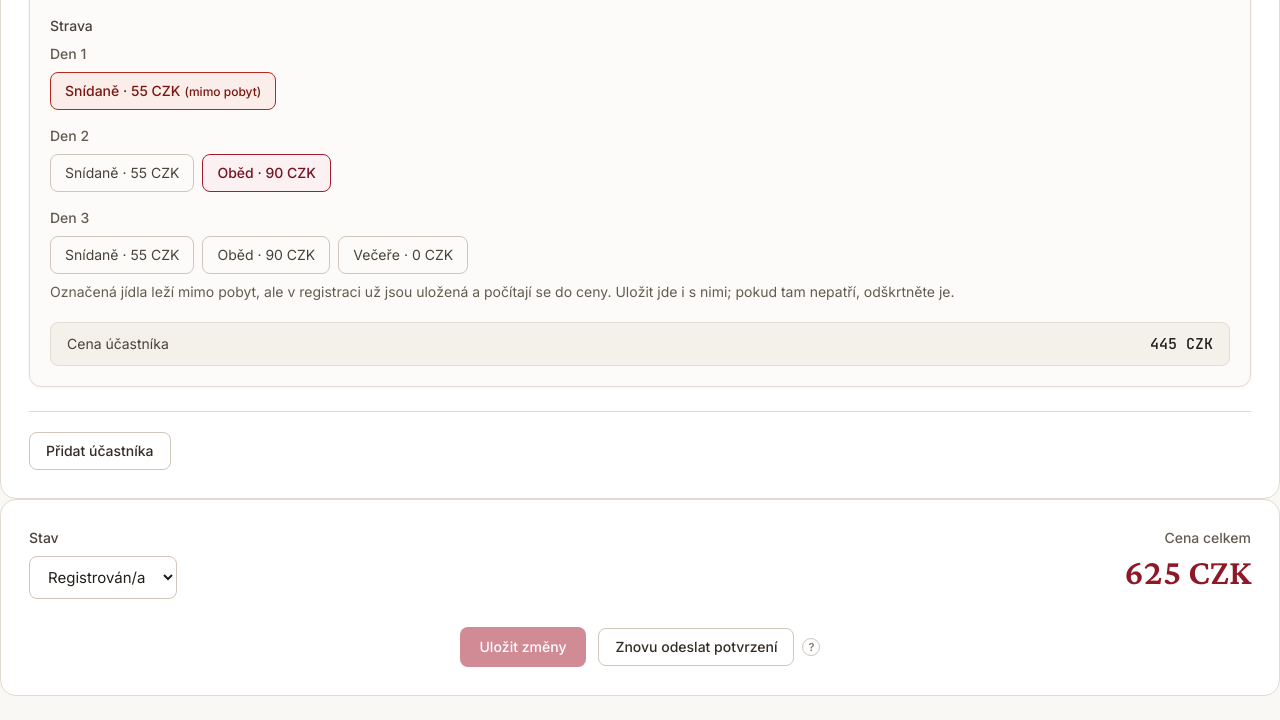
Test case: the stored registration, shown as it is › a meal already stored outside the stay is flagged and explained — but priced, and no obstacle to a save
This screenshot has width=1280, height=720.
(page scrolled)
Expected: the text "Označená jídla leží mimo pobyt, ale v registraci už jsou uložená a počítají se do ceny. Uložit jde i s nimi; pokud tam n" is shown, [50, 282, 954, 300]
Select "Zrušeno" in the dropdown labelled "Stav" at (103, 578), box [29, 556, 177, 599]
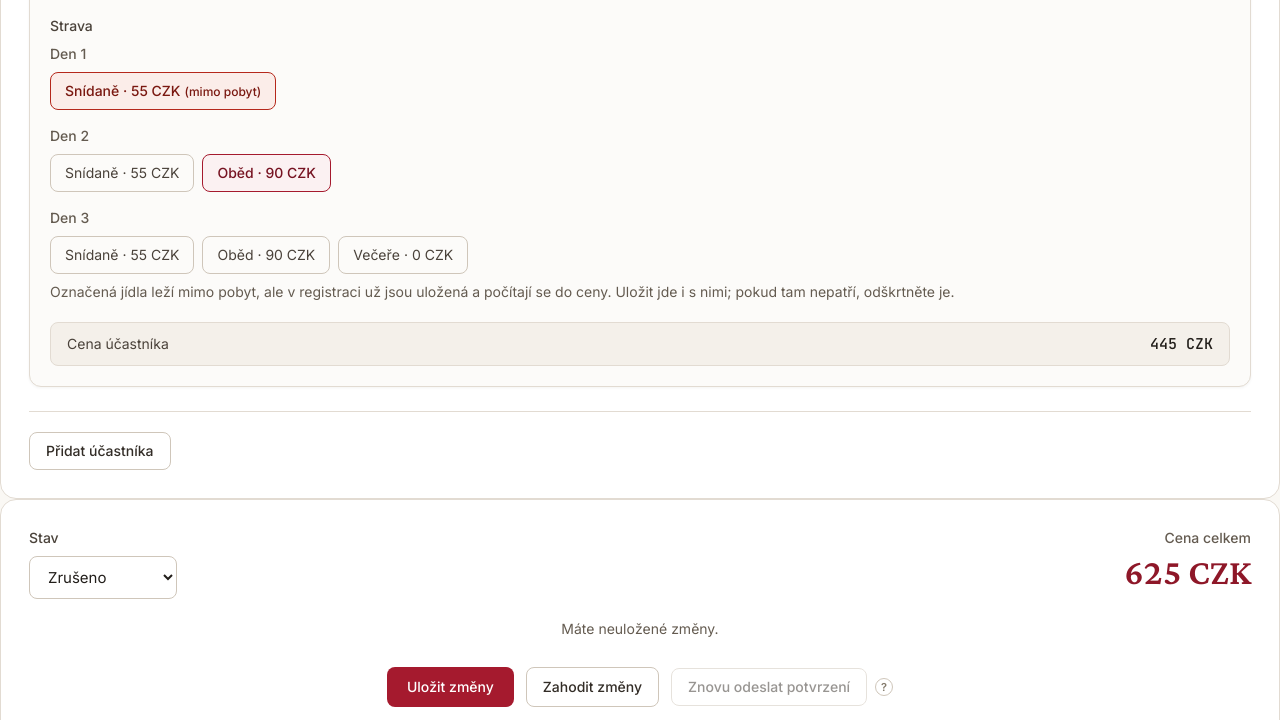
Now the button "Uložit změny" is enabled, box [387, 667, 514, 707]
Click the checkbox labelled "Snídaně · 55 CZK(mimo pobyt)" at (163, 90), box [50, 72, 276, 110]
(page scrolled)
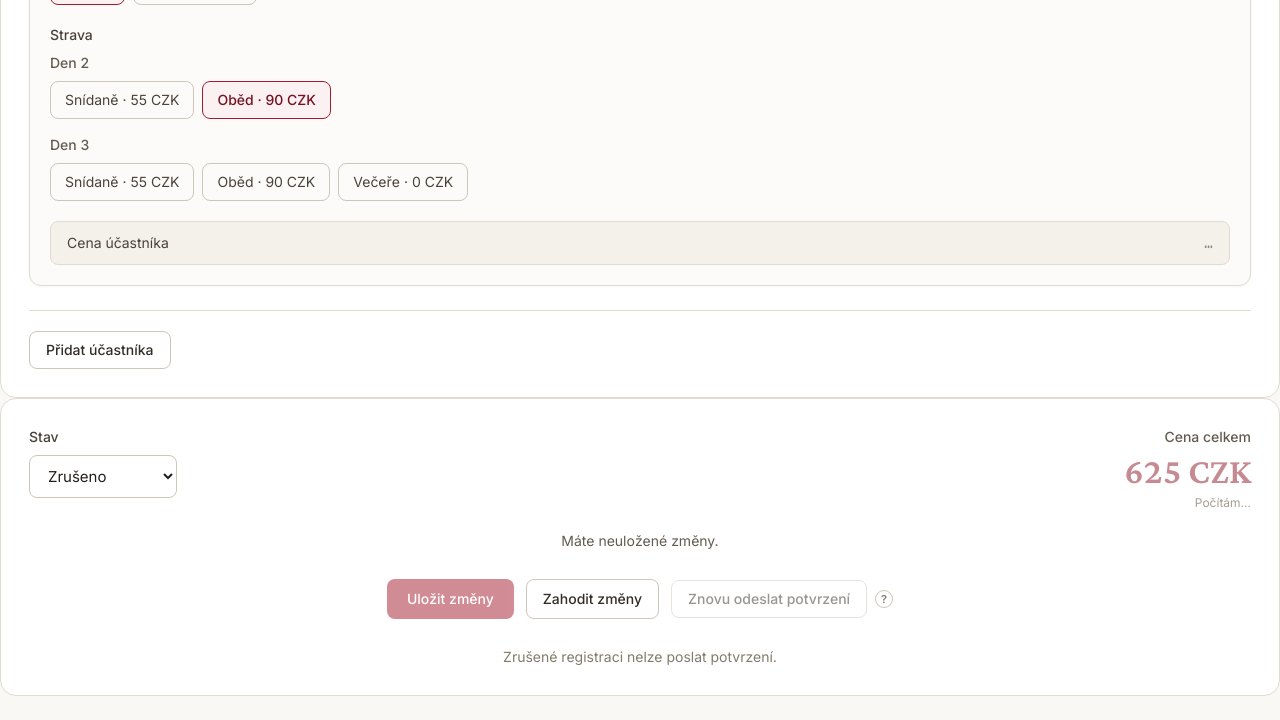
Now the text "Označená jídla leží mimo pobyt, ale v registraci už jsou uložená a počítají se do ceny. Uložit jde i s nimi; pokud tam n" is gone
